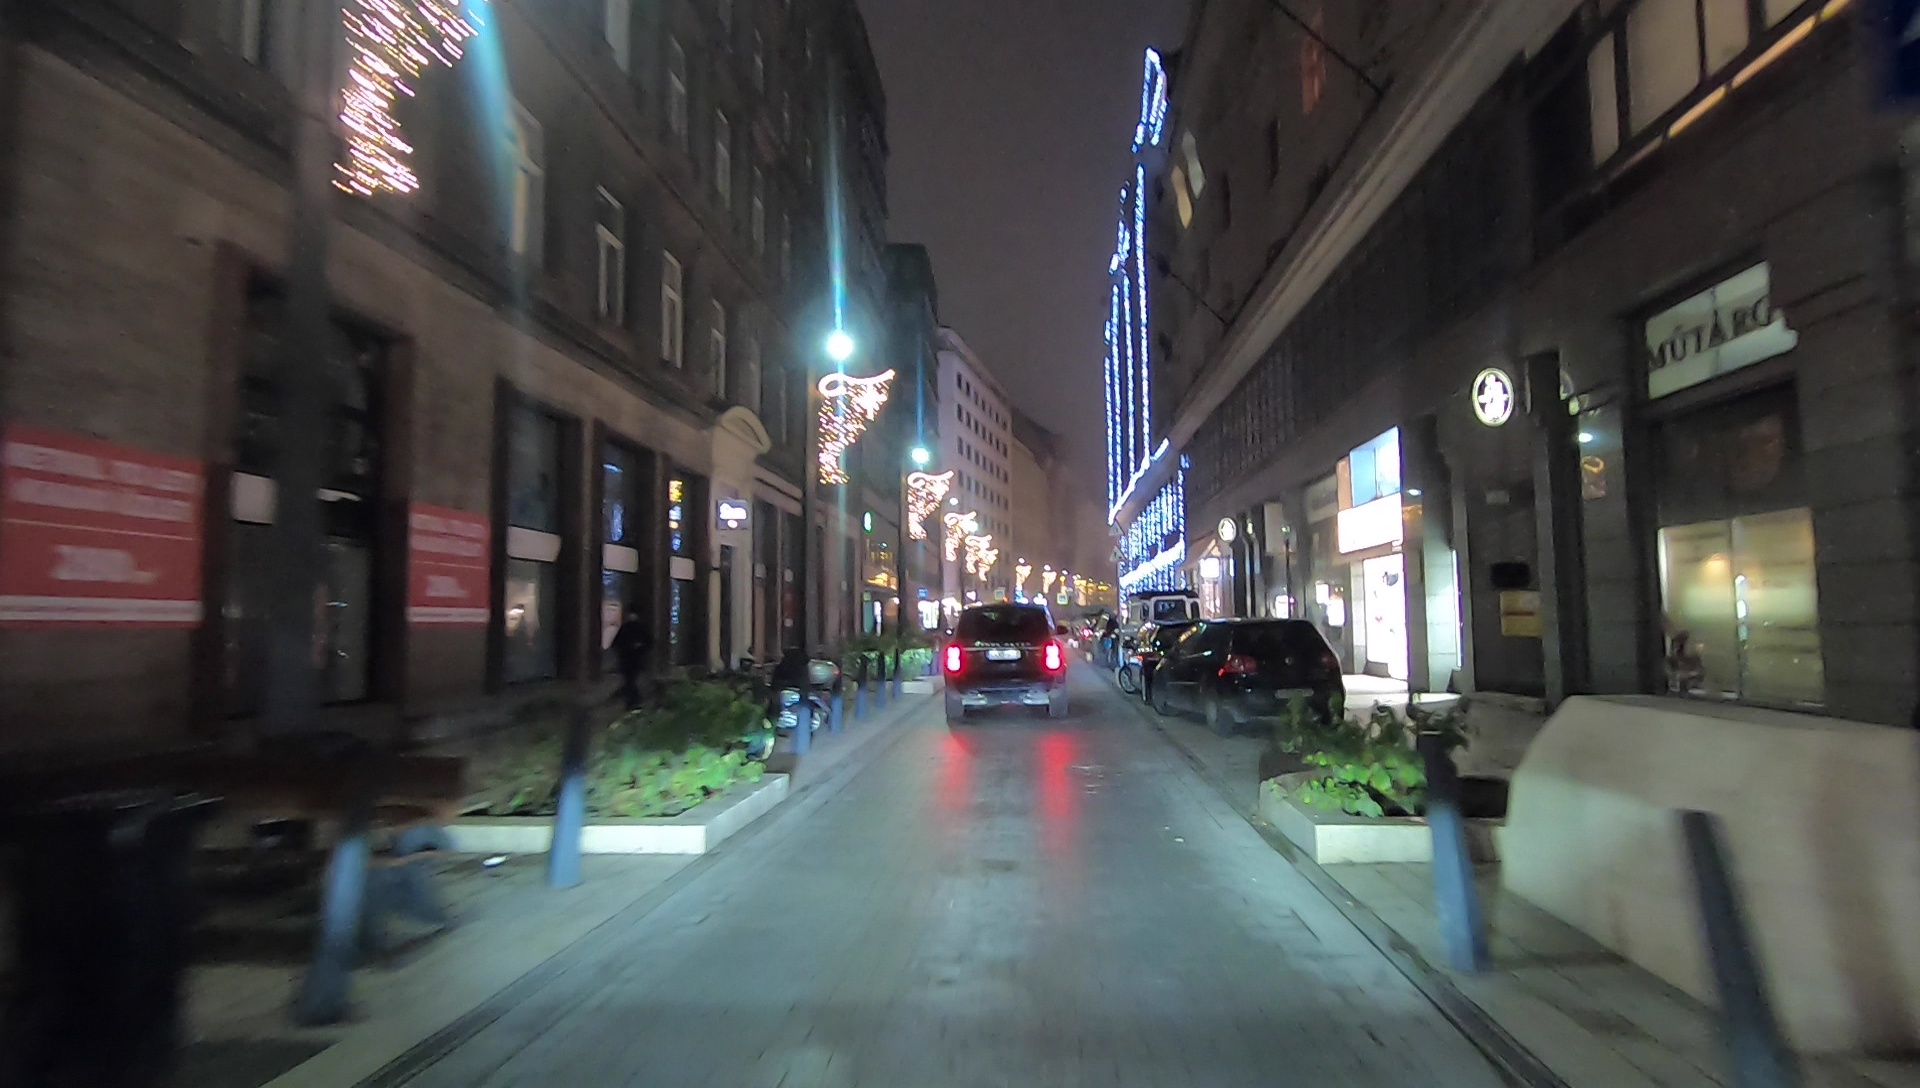person: (610, 608, 649, 719)
